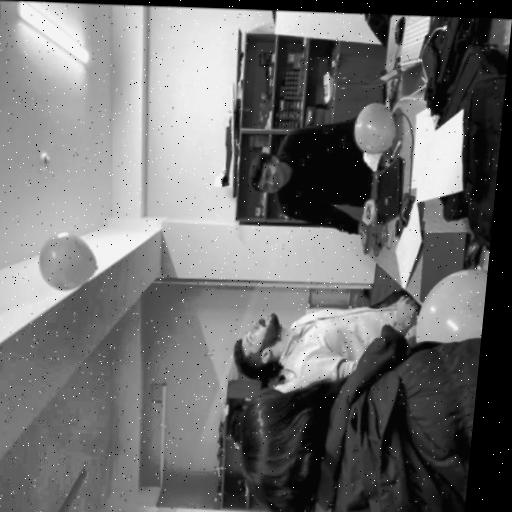balloon: (401, 243, 490, 348), (34, 230, 100, 290), (347, 102, 404, 157)
